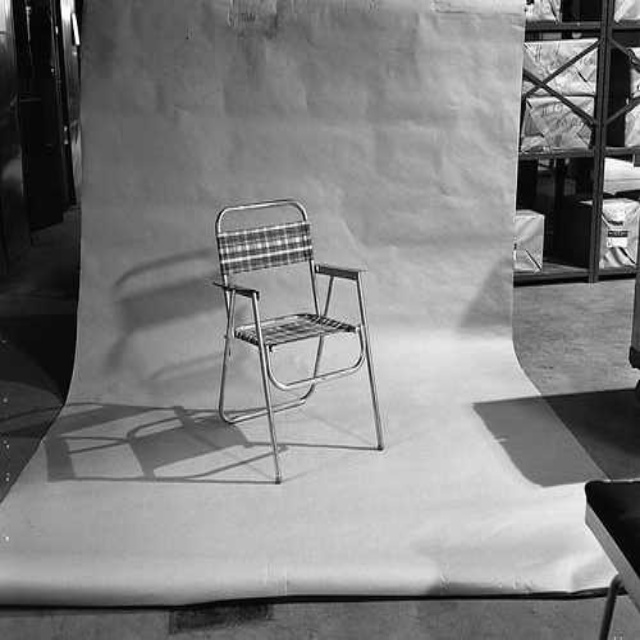obstacle: (215, 198, 383, 481)
